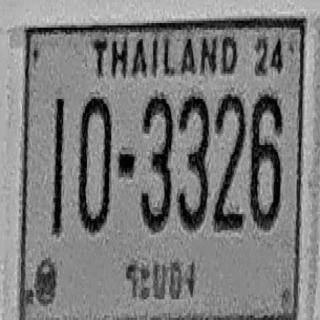N00: (79, 94, 111, 233)
N01: (52, 97, 64, 235)
N02: (213, 91, 246, 229)
N03: (140, 93, 173, 231), (178, 93, 209, 231)
N06: (250, 92, 282, 230)
P53: (122, 250, 200, 310)
